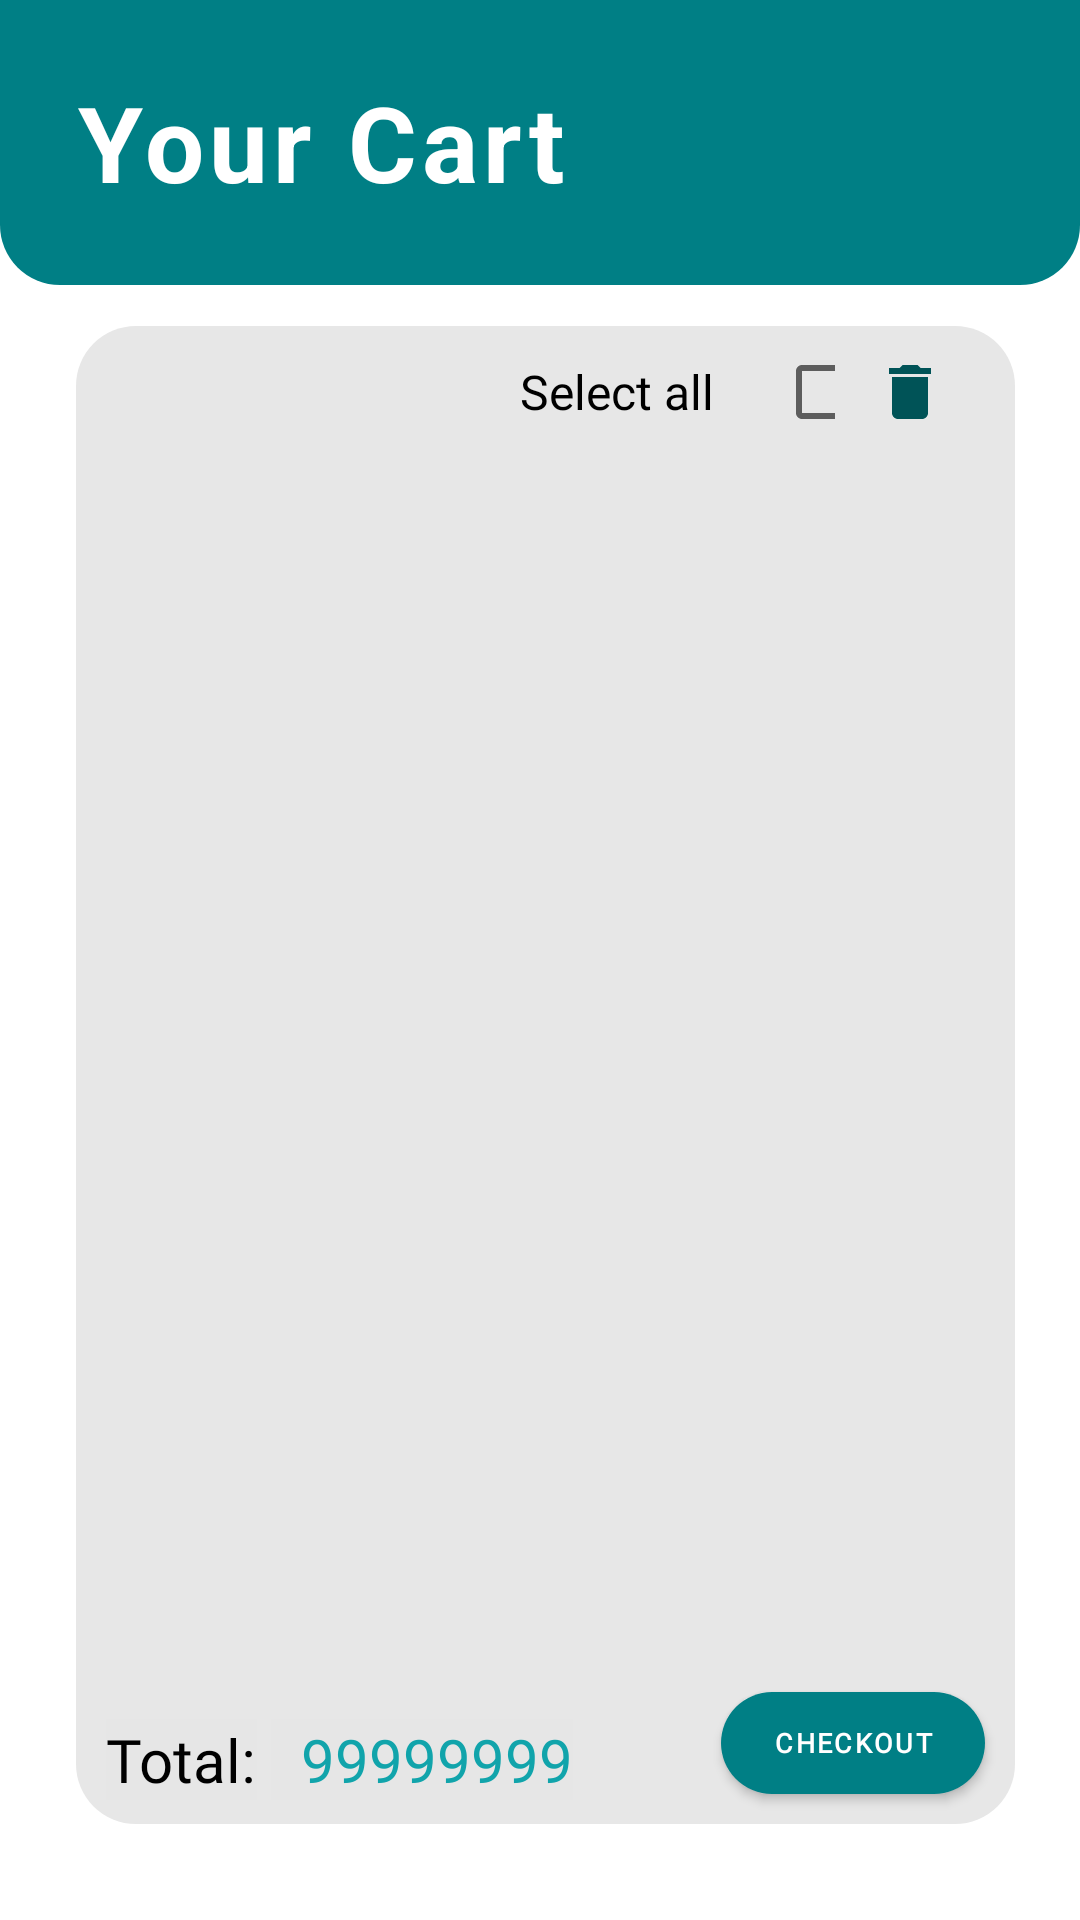

Named icons in this screenshot (1080px x 1920px) and their centers, point (x, y):
delete: point (910, 392)
